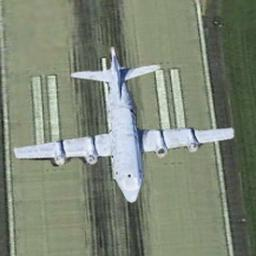Airplane: (13, 45, 234, 203)
